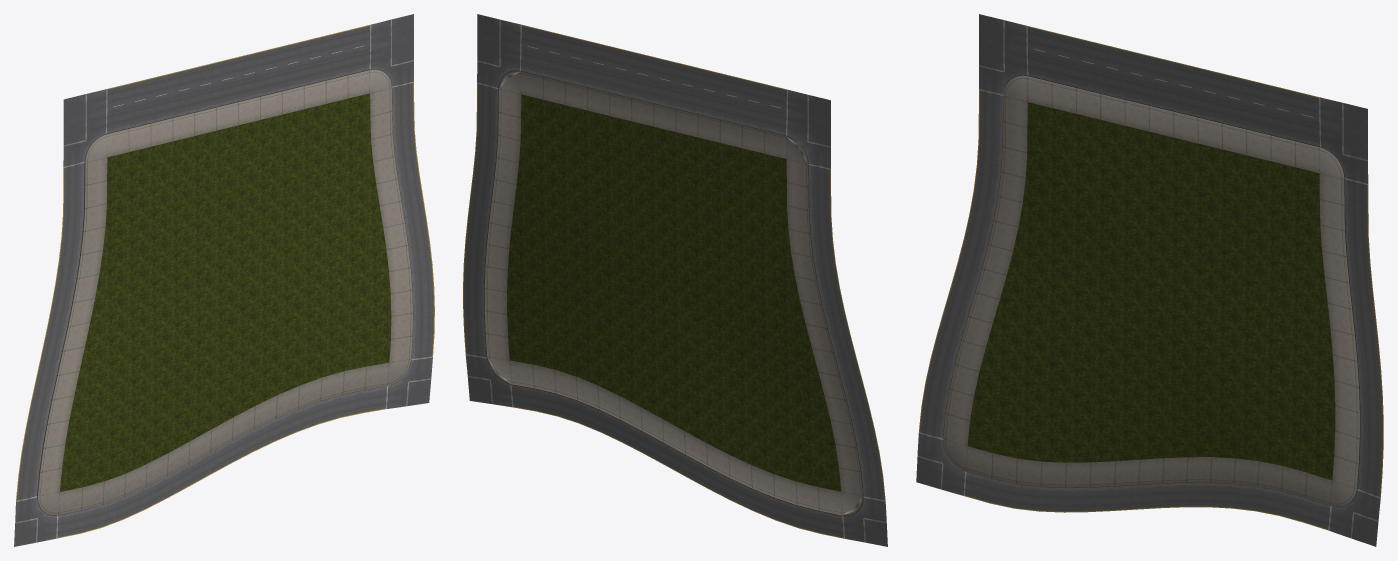
The model's file is block2.obj.
The picture shows the model from 3 angles, left to right: view 1: azimuth 30°, elevation 25°; view 2: azimuth 150°, elevation 25°; view 3: azimuth 330°, elevation 25°; orthographic projection. The views are drawn at different scales.
Parts seen in each view (by area): view 1: block2; view 2: block2; view 3: block2.
Part boxes in pixels (bbox=[...]): block2: bbox=[14, 14, 434, 546]; block2: bbox=[463, 14, 887, 546]; block2: bbox=[916, 14, 1383, 546].
Size of the model in its own units: 96.07 by 94.93 by 1.8.
